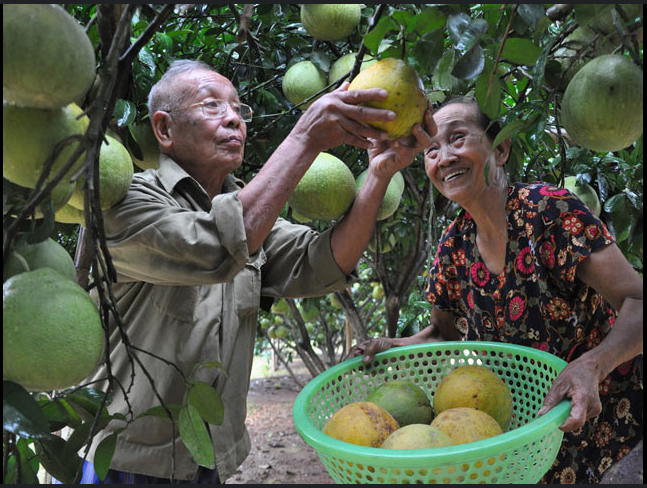buoi: (2, 275, 112, 394), (552, 39, 644, 155), (3, 4, 98, 107), (3, 107, 107, 192), (346, 48, 437, 141), (425, 362, 522, 419), (290, 147, 355, 222), (86, 132, 142, 209), (382, 413, 452, 473), (317, 402, 389, 451), (9, 229, 83, 272), (367, 378, 431, 427), (433, 408, 507, 450), (287, 6, 371, 40), (280, 57, 330, 108)
